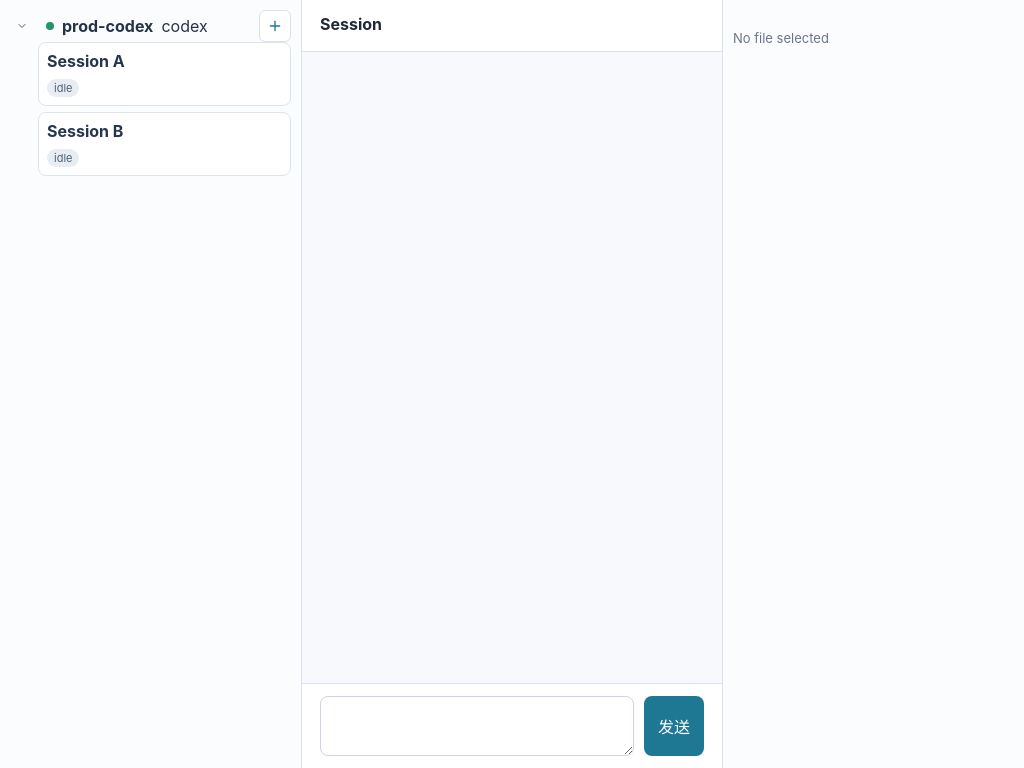
Test: keeps a session turn stream current after navigating away and back
Click the button "Session A idle".
click(164, 74)  # box [38,42,291,106]
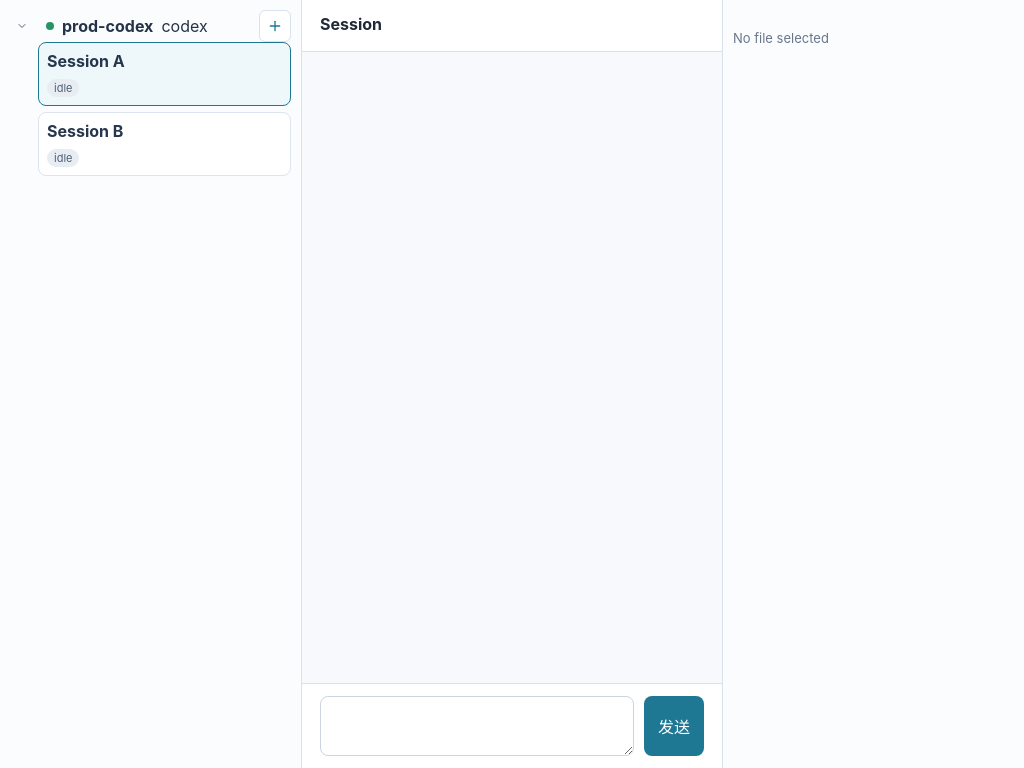
Type "go" into the text box named "输入提示词".
click(477, 726); type("go")  # box [320,696,634,756]
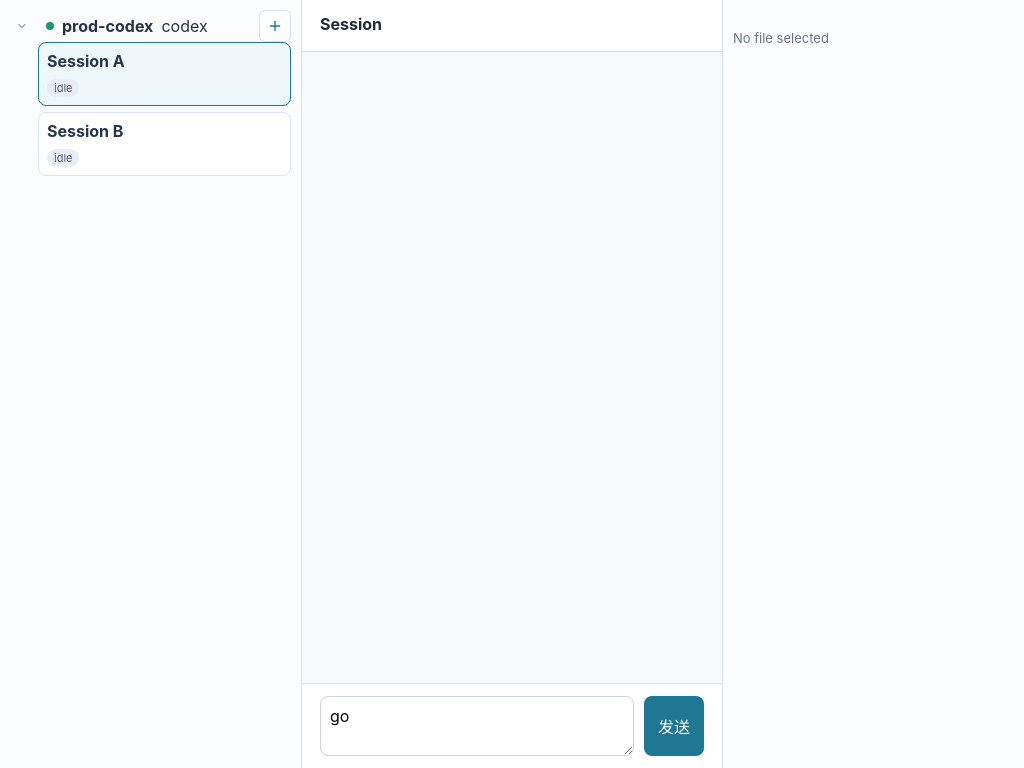
Submit the form, box [302,683,722,767]
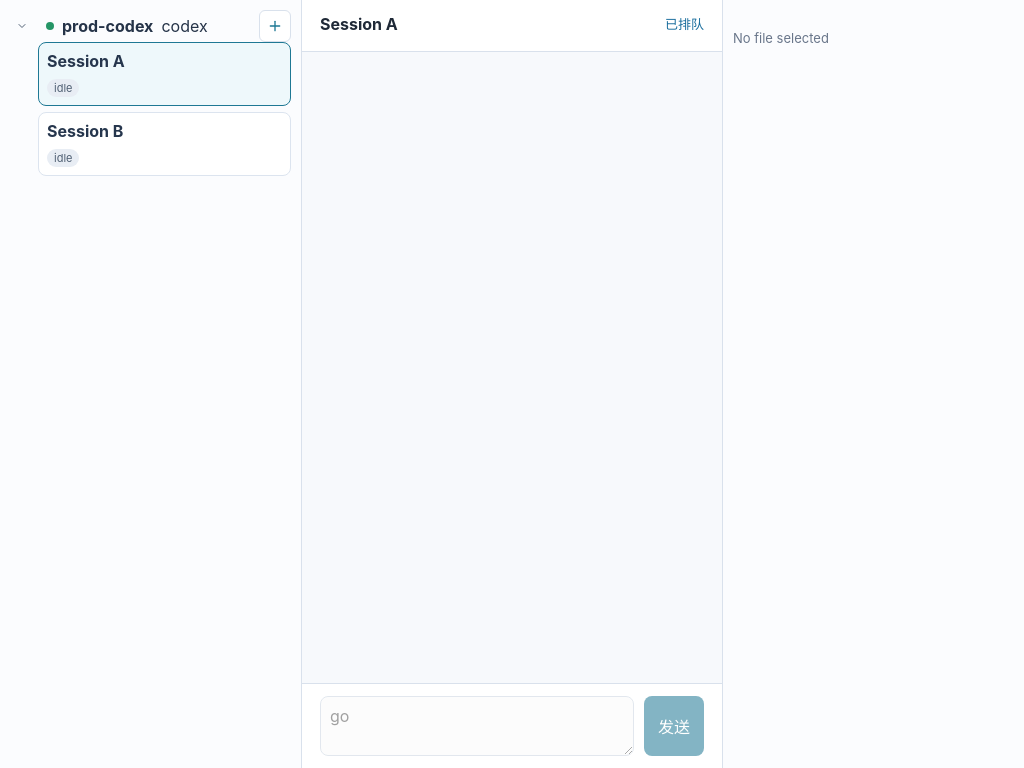
Click the button "Session B idle".
click(164, 144)  # box [38,112,291,176]
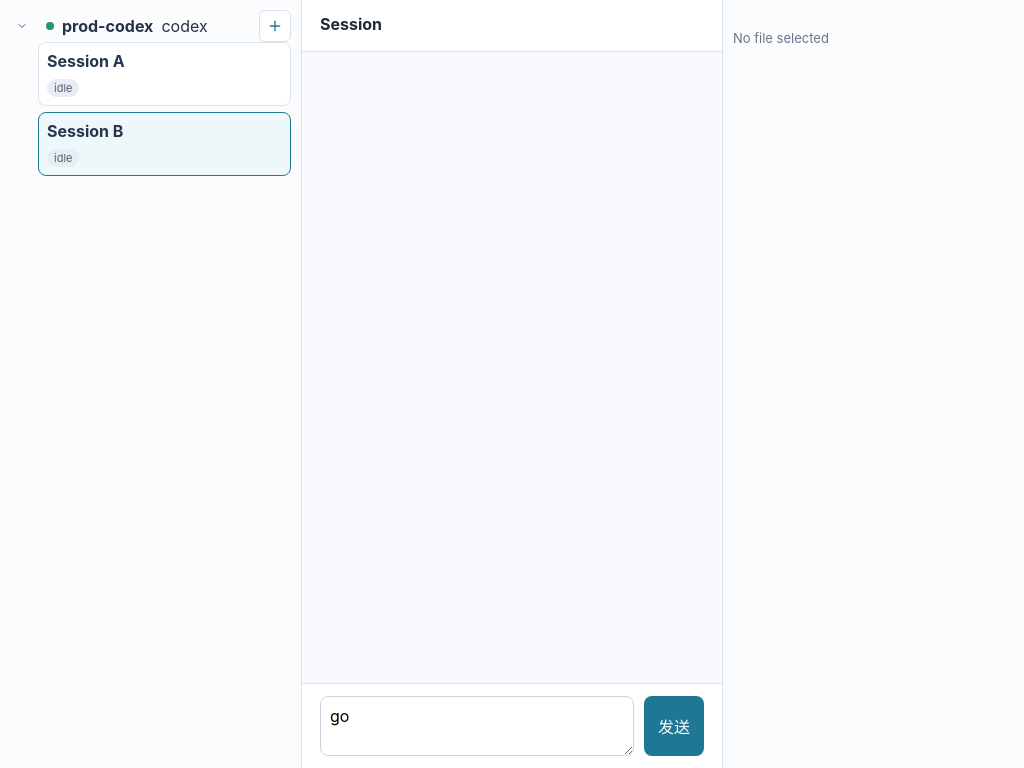
Click the button "Session A idle".
click(164, 74)  # box [38,42,291,106]
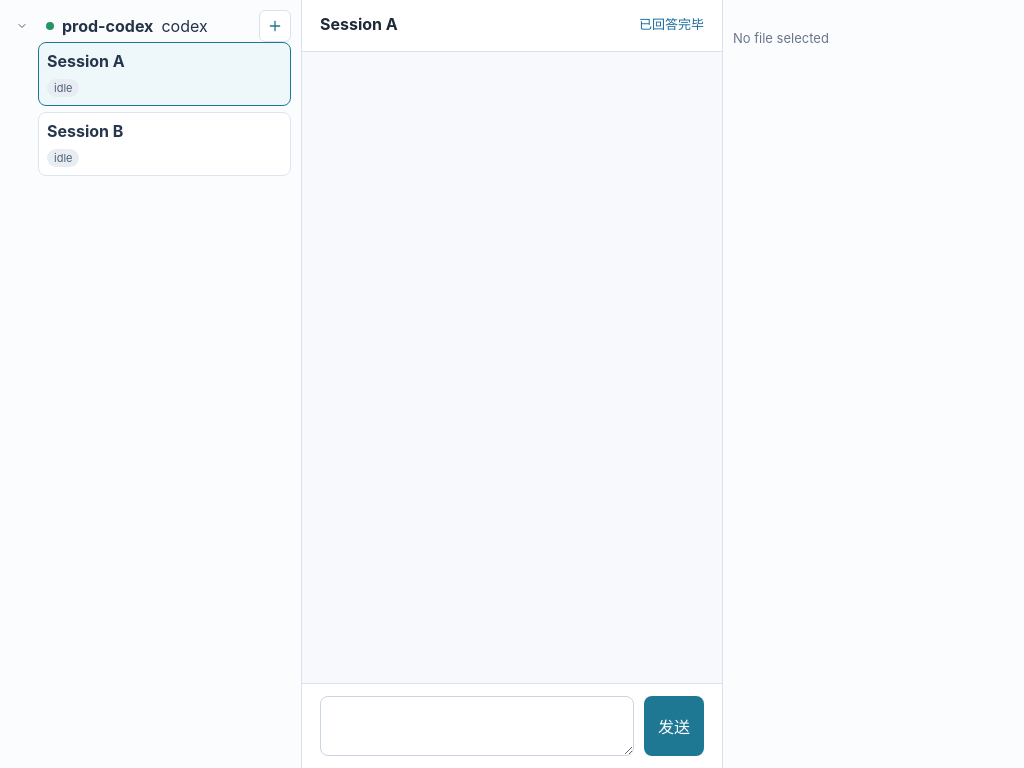
Expected: the message reads "已回答完毕", [639,16,704,32]
